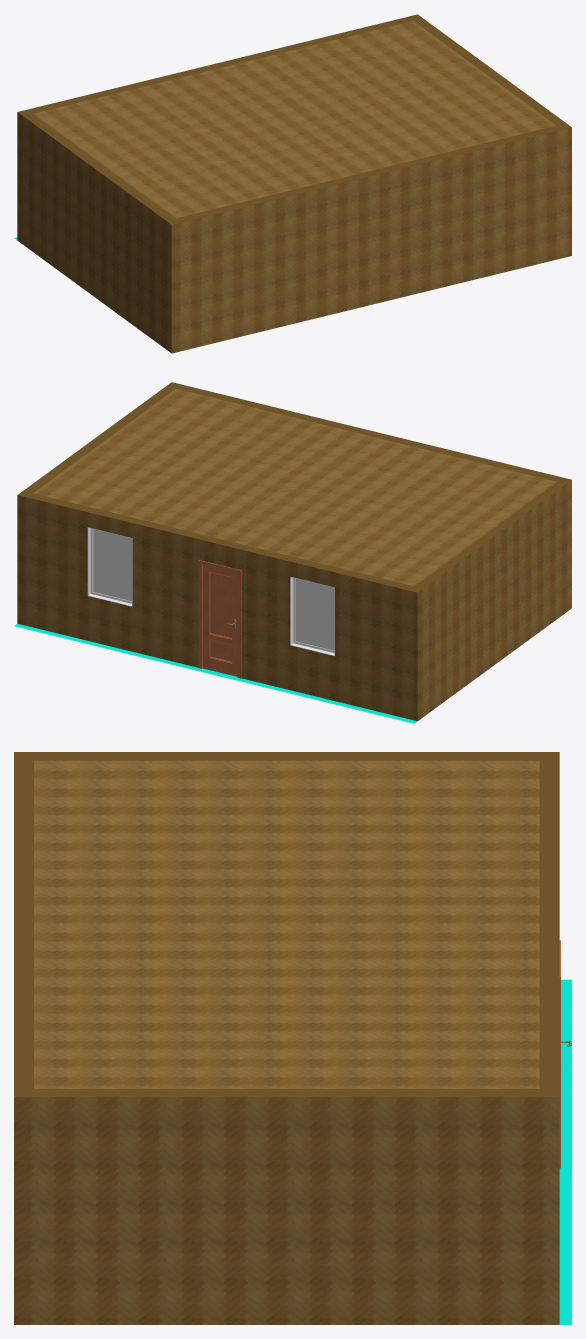
File: village_pecheurs_maison_chef.glb
3 views of the same model, one above another, from view 1: azimuth 30°, elevation 25°; view 2: azimuth 150°, elevation 25°; view 3: azimuth 270°, elevation 25° (orthographic). The views are drawn at different scales.
Visible parts, largest first — view 1: Village_pecheurs_maison_chef; view 2: Village_pecheurs_maison_chef; view 3: Village_pecheurs_maison_chef.
Part boxes in pixels (<box>): Village_pecheurs_maison_chef: <box>14,14,571,353</box>; Village_pecheurs_maison_chef: <box>14,382,571,723</box>; Village_pecheurs_maison_chef: <box>14,752,571,1324</box>.
Bounding box in the file's own units: 188 × 57.71 × 128.
Materials: 6 (2 with a texture image).
